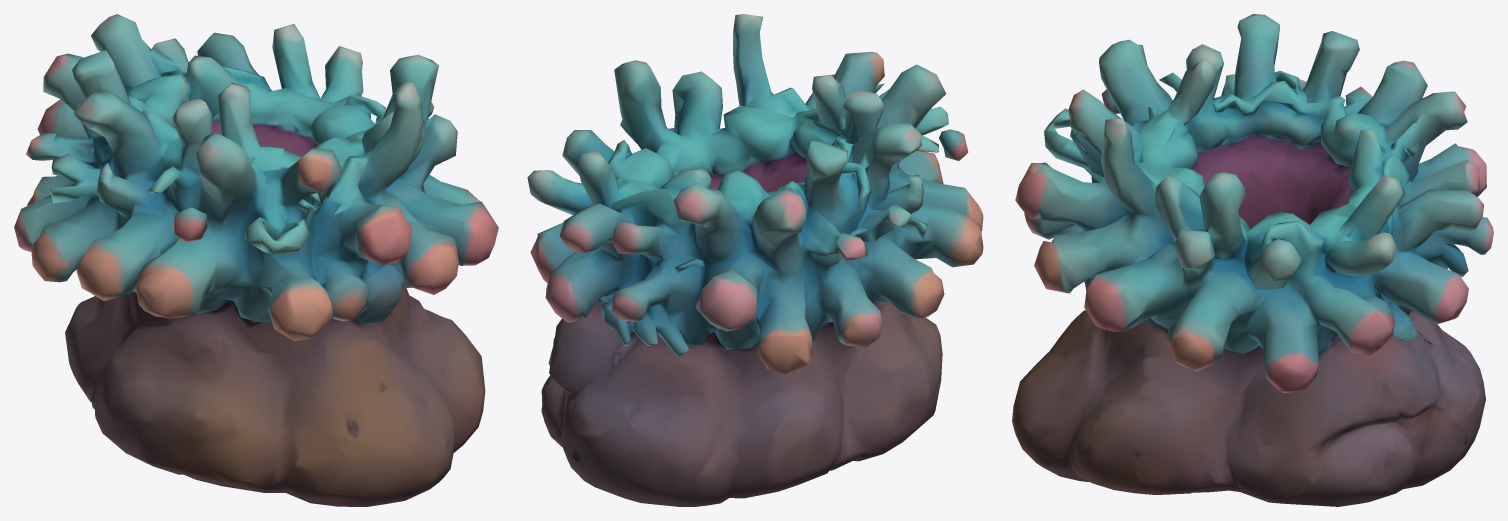
Rendered from anemone-patch.glb.
The picture shows the model from 3 angles, left to right: view 1: azimuth 30°, elevation 25°; view 2: azimuth 150°, elevation 25°; view 3: azimuth 270°, elevation 25°; orthographic projection. The views are drawn at different scales.
Visible parts, largest first — view 1: tripo_node_479b2db5-1e4b-467e-b94e-81a6d7cf6553; view 2: tripo_node_479b2db5-1e4b-467e-b94e-81a6d7cf6553; view 3: tripo_node_479b2db5-1e4b-467e-b94e-81a6d7cf6553.
Boxes of the visible parts, x1,y1,x2,y2 form: tripo_node_479b2db5-1e4b-467e-b94e-81a6d7cf6553: (14,14,498,506); tripo_node_479b2db5-1e4b-467e-b94e-81a6d7cf6553: (527,14,983,506); tripo_node_479b2db5-1e4b-467e-b94e-81a6d7cf6553: (1012,14,1493,506).
Bounding box in the file's own units: 3.3 × 3 × 3.56.
1 material, 1 textured.
